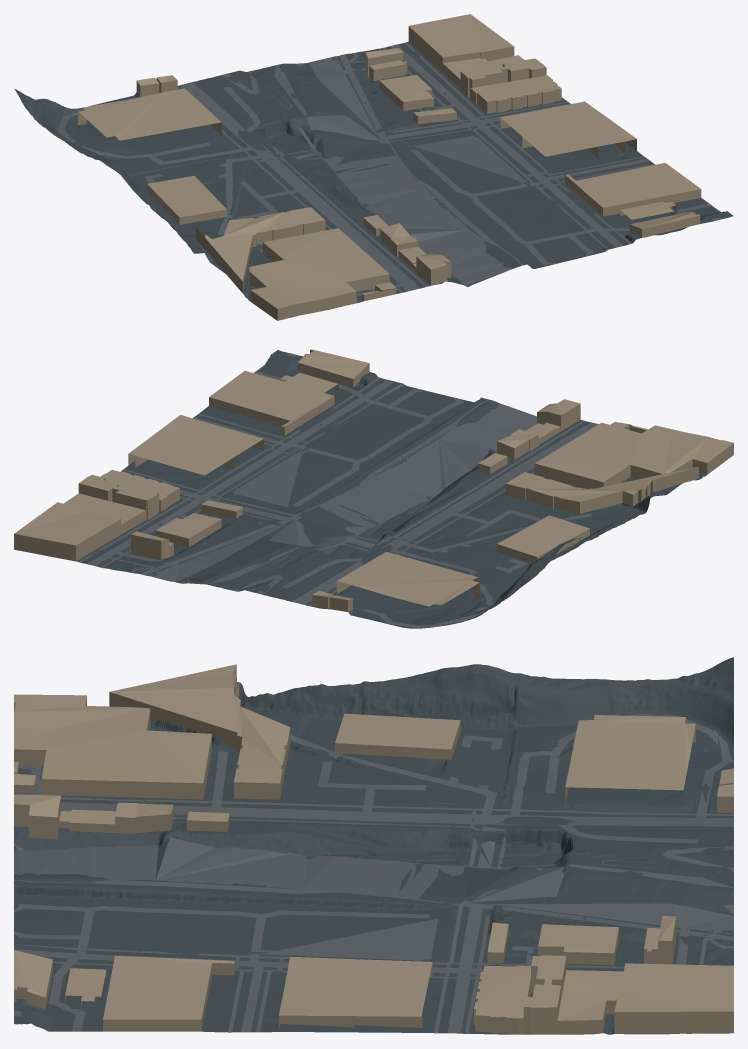
Rendered from epsg26910-1441-10882.lod0.glb.
The picture shows the model from 3 angles, top to bottom: view 1: azimuth 30°, elevation 25°; view 2: azimuth 150°, elevation 25°; view 3: azimuth 270°, elevation 25°; orthographic projection. The views are drawn at different scales.
Visible parts, largest first — view 1: epsg26910-1441-10882-lod0; view 2: epsg26910-1441-10882-lod0; view 3: epsg26910-1441-10882-lod0.
Boxes of the visible parts, x1,y1,x2,y2 form: epsg26910-1441-10882-lod0: (14,14,733,320); epsg26910-1441-10882-lod0: (14,349,733,628); epsg26910-1441-10882-lod0: (14,657,733,1034).
Bounding box in the file's own units: 384 × 43.18 × 384.
